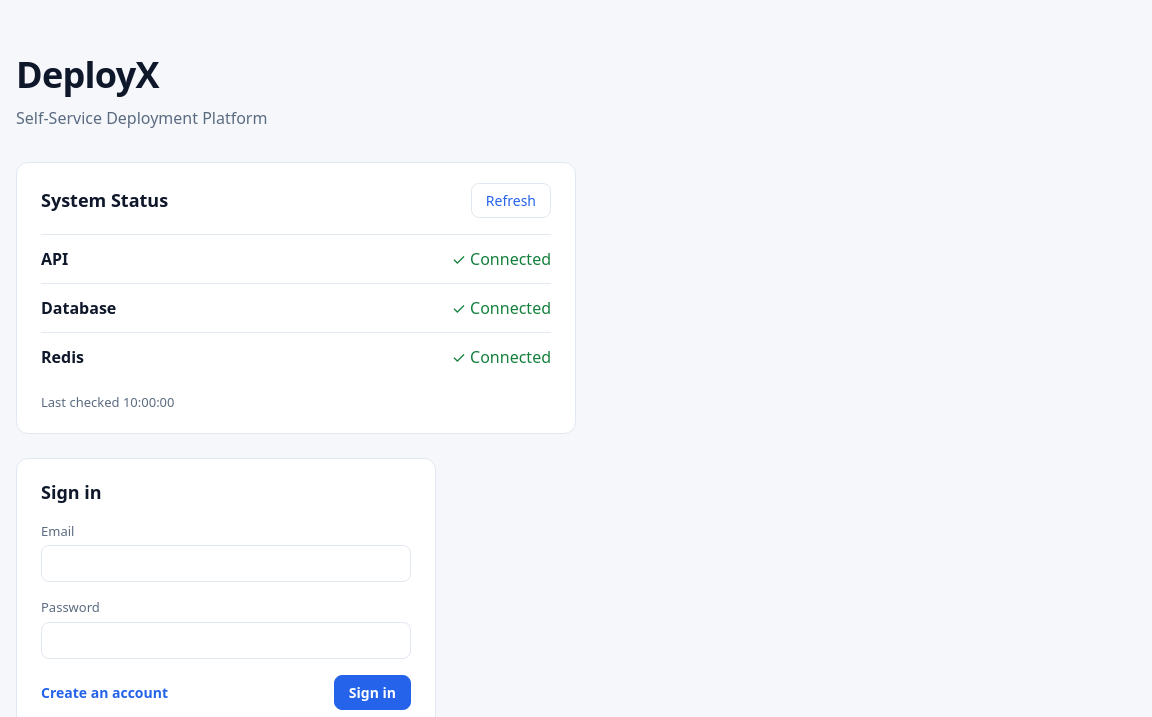
signed out › signing in shows the dashboard and stores nothing in the browser
Check: the heading "Sign in" is shown, box [41,480,102,504]
Type "ada@example.com" into the field labelled "Email" at (226, 564), box [41,545,411,582]
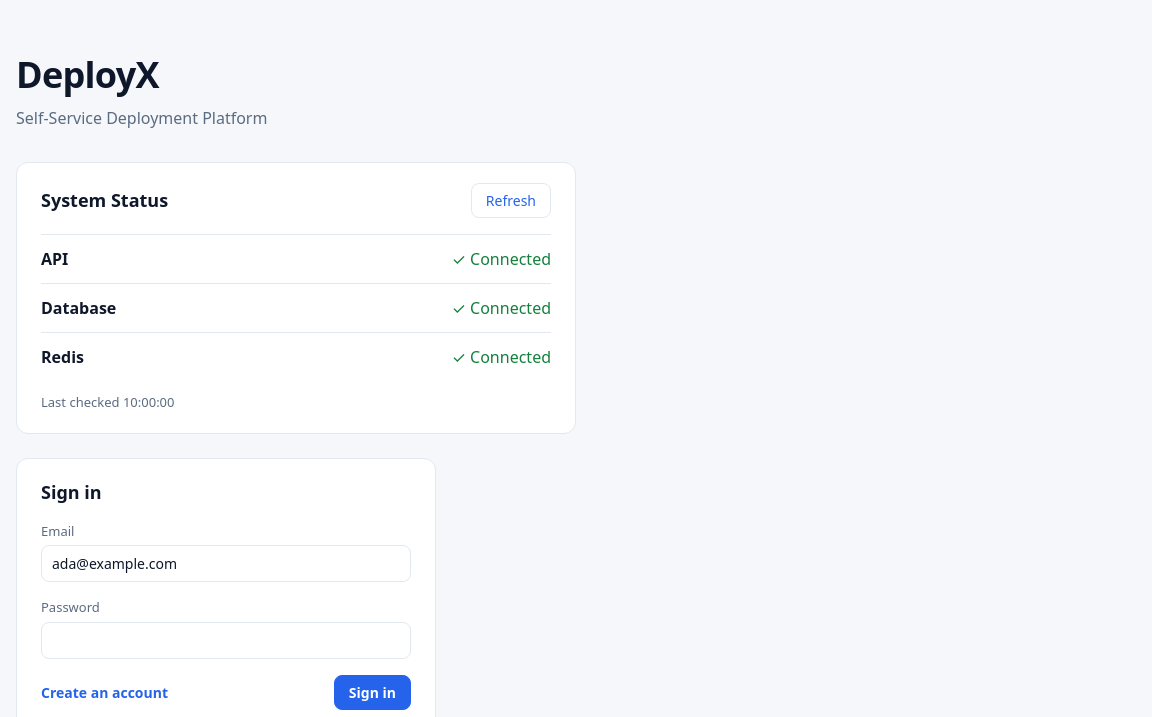
Type "a long password" into the password field labelled "Password" at (226, 640), box [41,622,411,658]
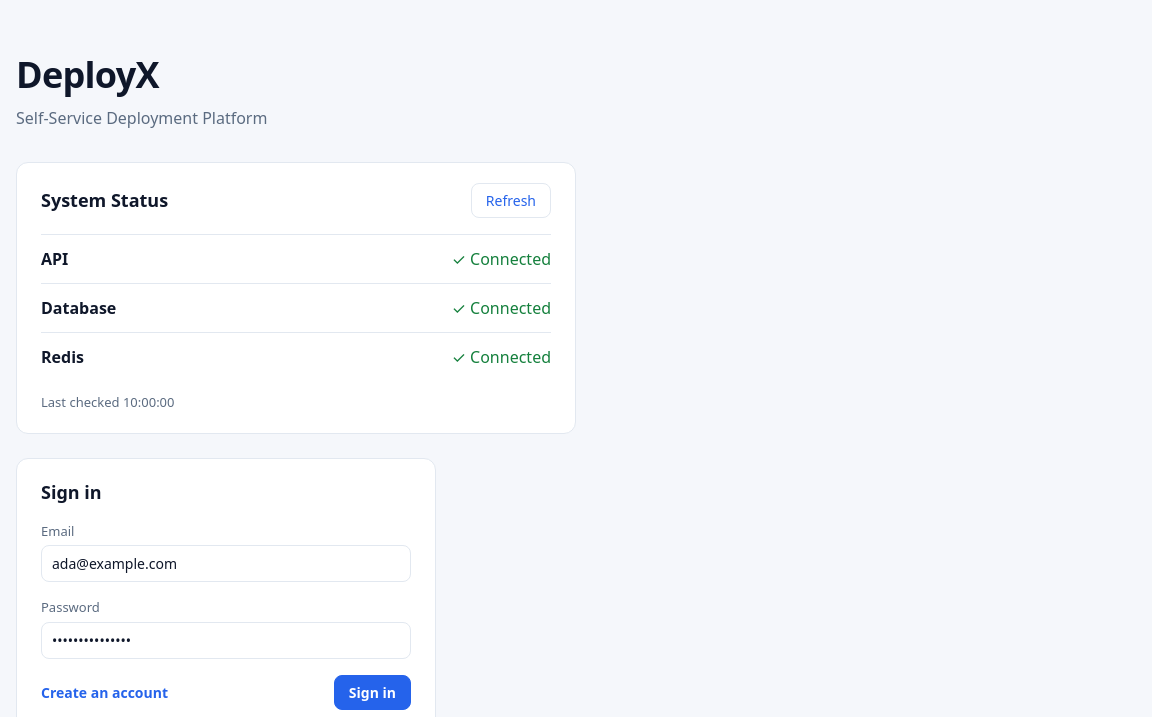
Click the button "Sign in" at (372, 692), box [334,674,411,710]
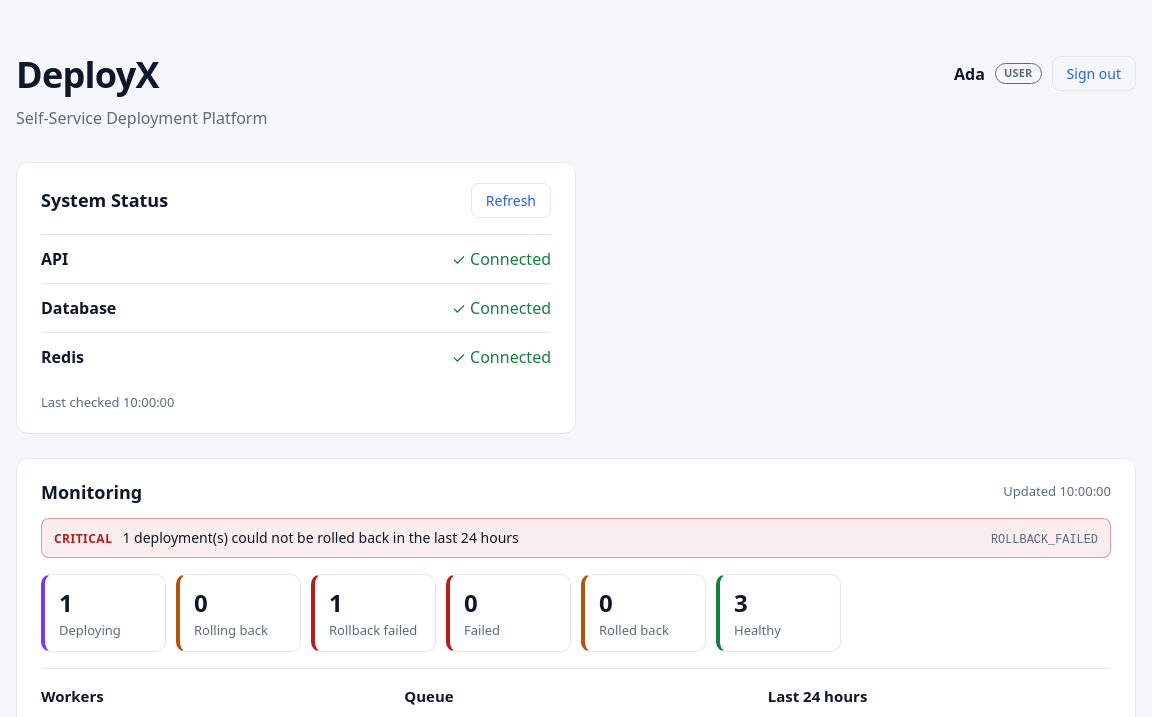
Check: the text "Ada" is shown, box [954,62,985,86]
Check: the text "USER" is shown, box [995,63,1042,84]
Check: the heading "Monitoring" is shown, box [41,478,142,506]
